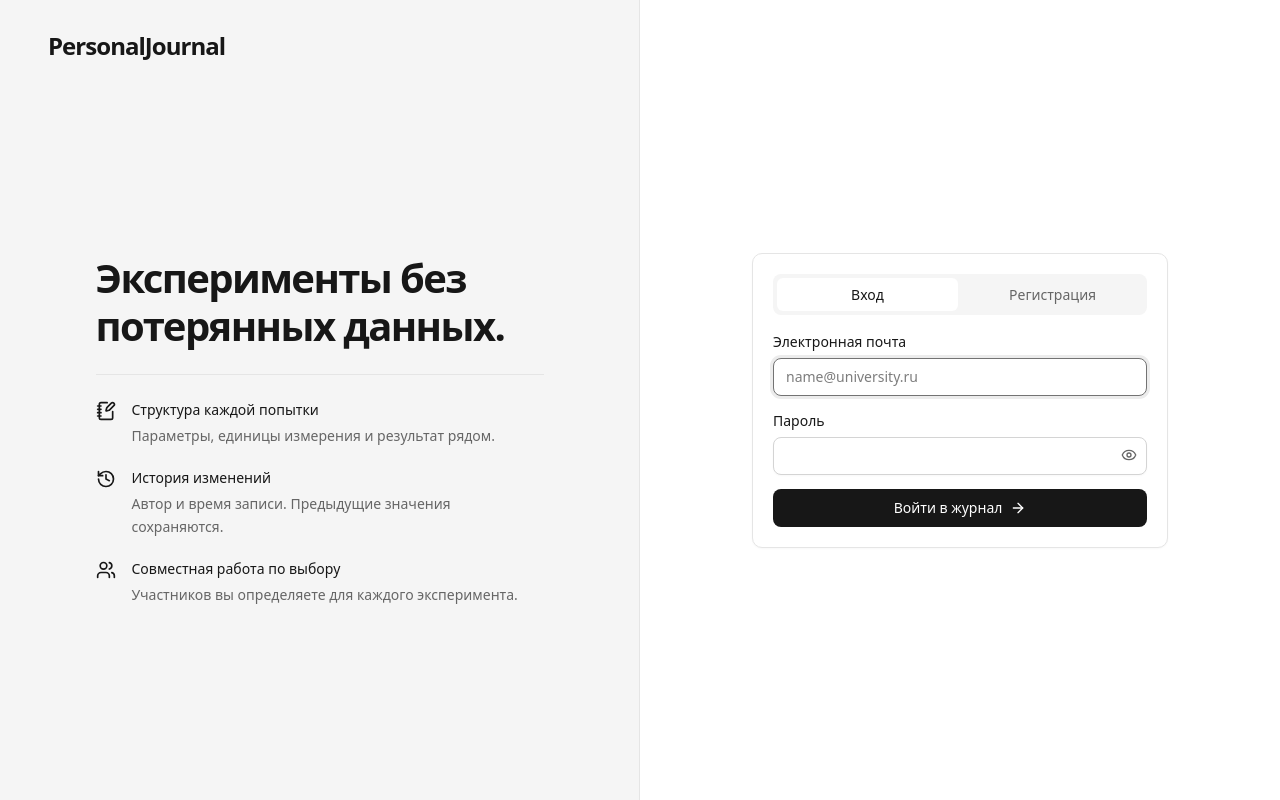
Test: Authentication boundary › does not fetch protected data before checking the session, and returns to the saved experiment after login
Expected: the form named "Вход в журнал" is shown, [773,330,1147,526]
Type "anna@example.test" into the field labelled "Электронная почта" at coordinates (960, 376), box [773,358,1147,396]
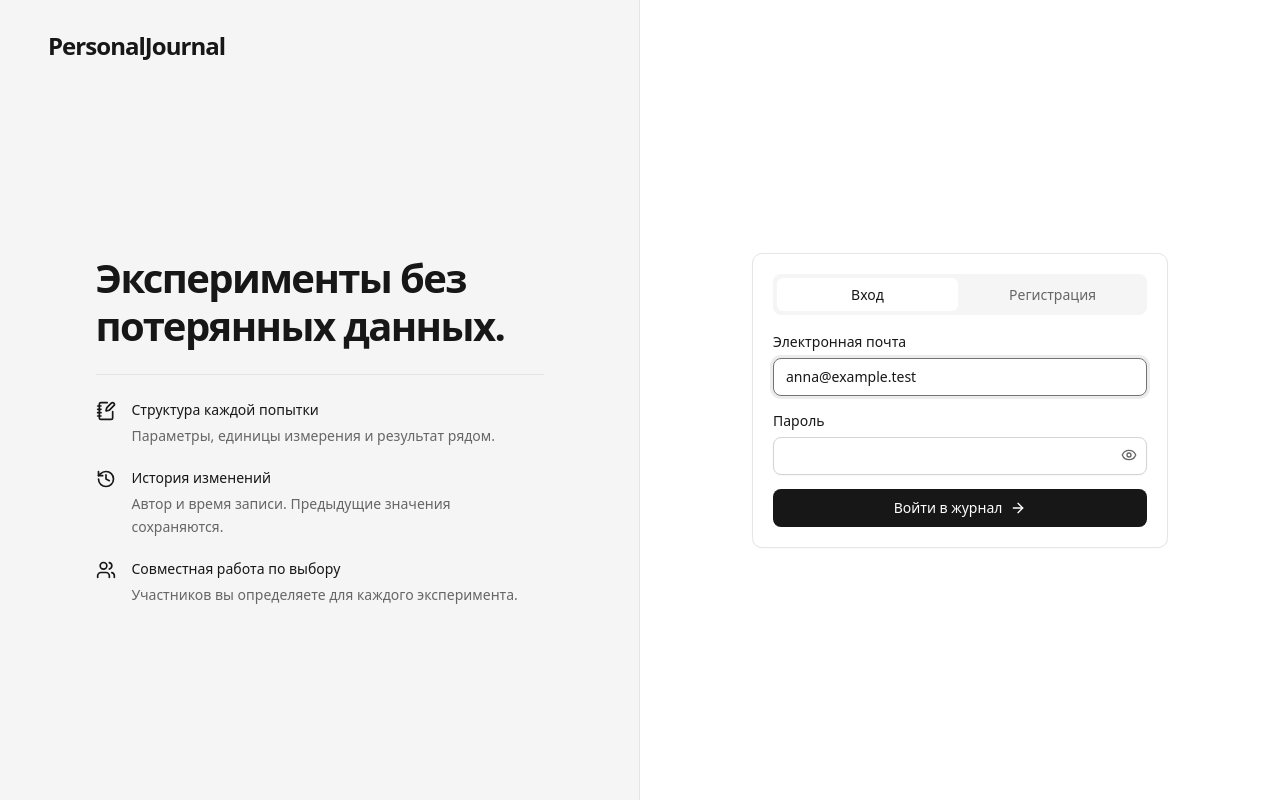
Type "  correct password  " into the password field labelled "Пароль" at coordinates (960, 456), box [773,436,1147,474]
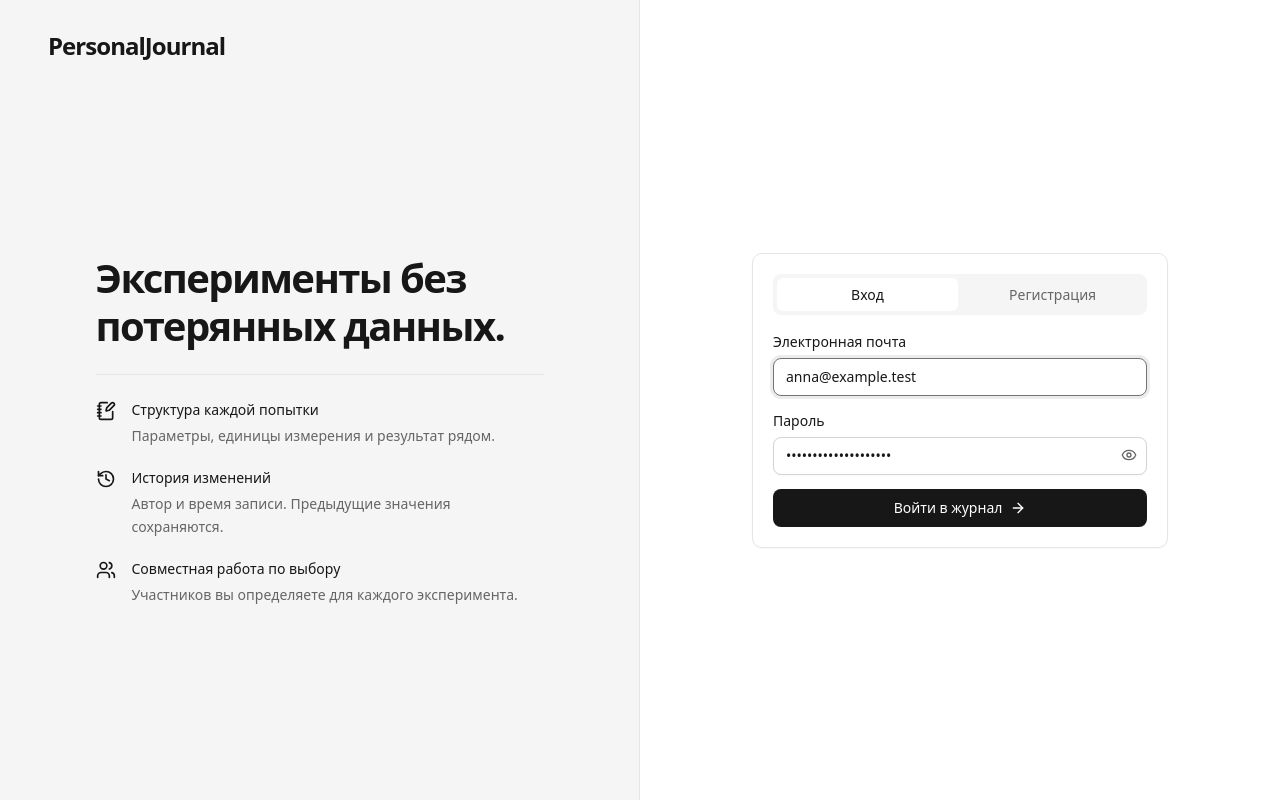
Click the button "Войти в журнал" at coordinates (960, 508), box [773,488,1147,526]
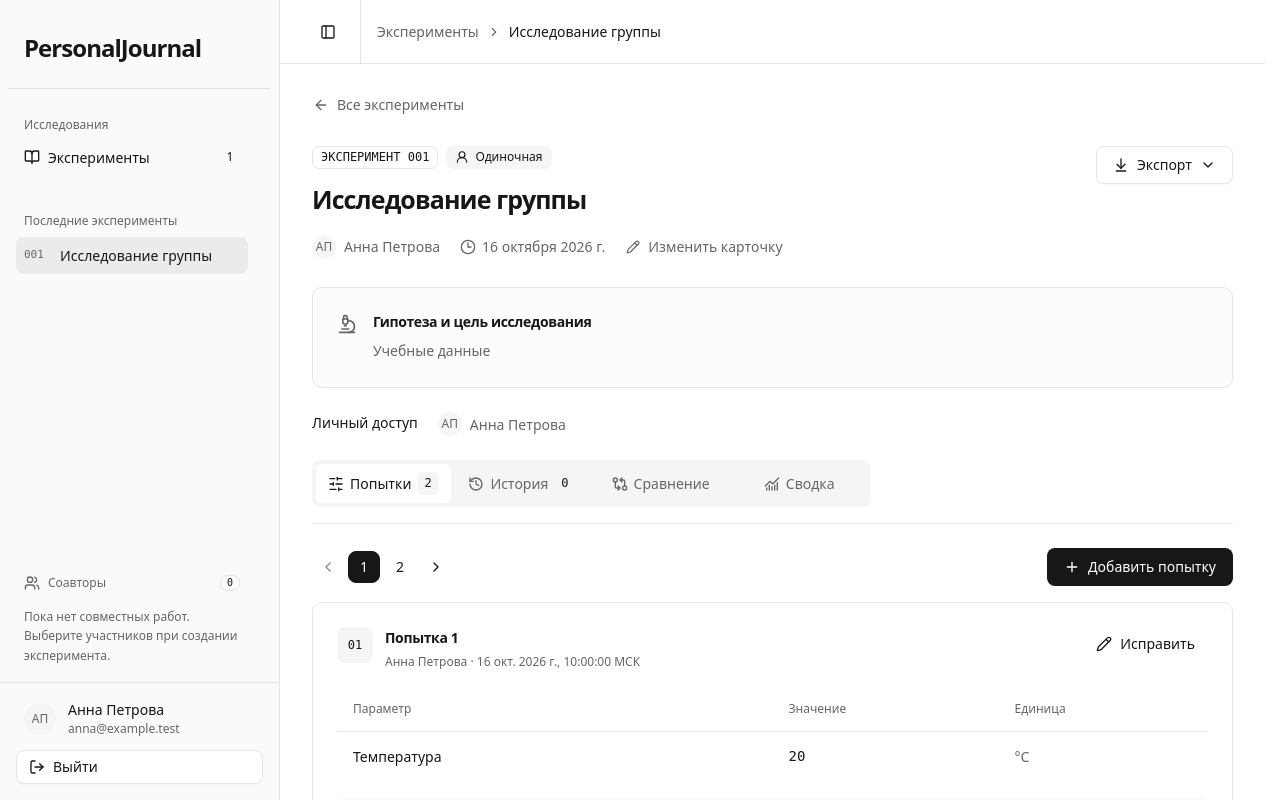
Now the heading "Исследование группы" is shown, box [312,182,586,216]
Now the text "anna@example.test" is shown, box [68,720,180,737]
